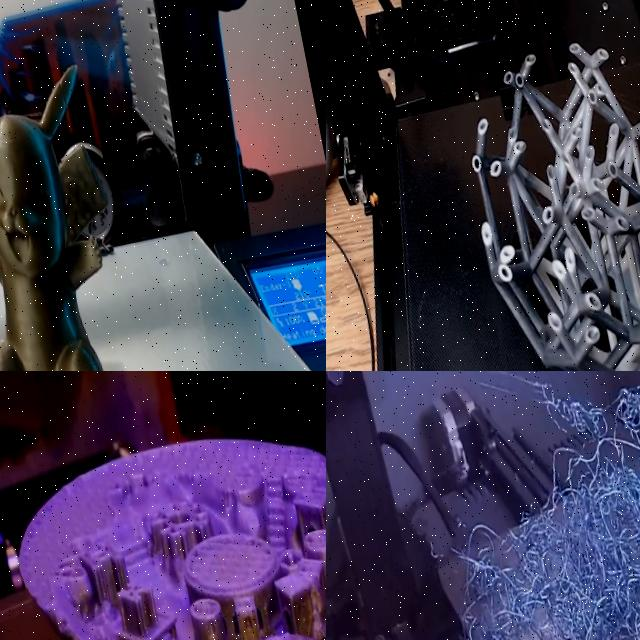spaghetti: (328, 371, 640, 640)
